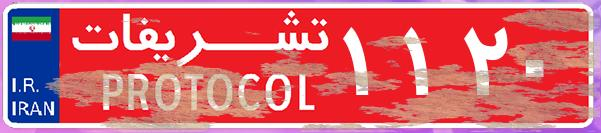0: (520, 20, 580, 115)
1: (340, 20, 400, 115), (400, 20, 460, 115)
2: (460, 20, 520, 115)
تشریفات: (60, 8, 340, 125)
